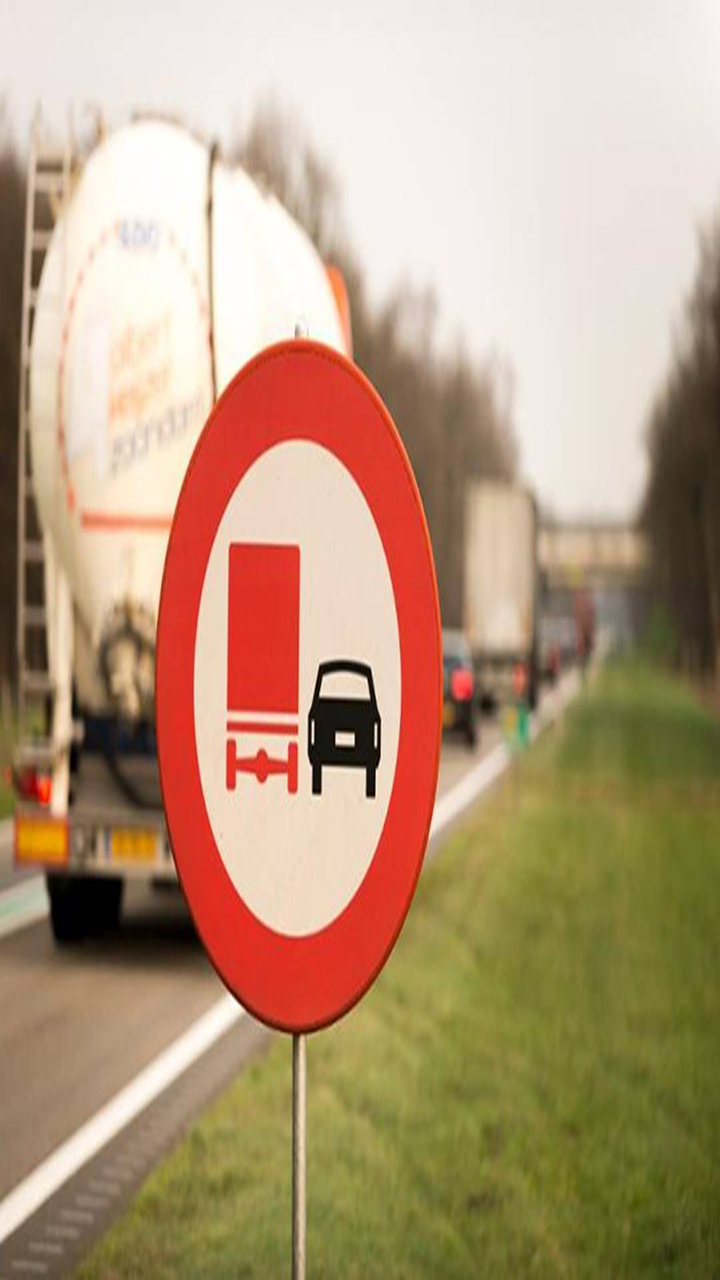Traffic sign: (27, 99, 603, 1151)
vehicle: (458, 452, 582, 745)
